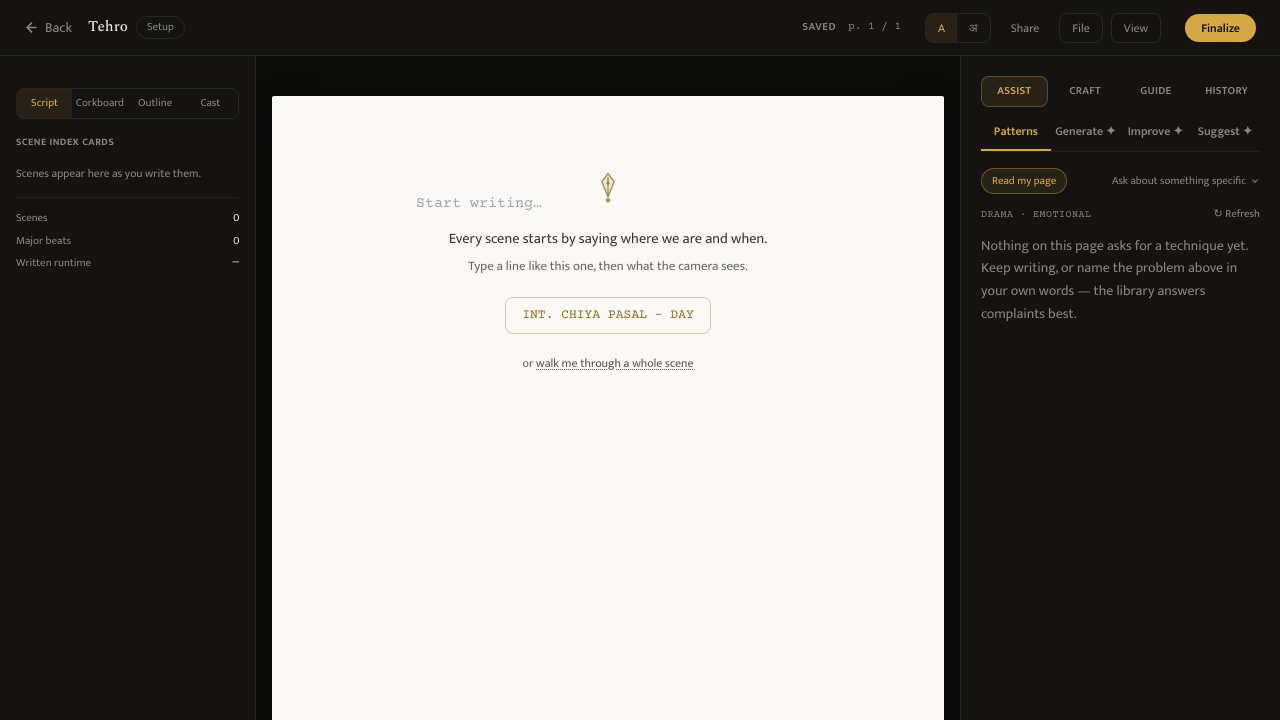
Scenario: ScriptEditor › on the free plan › offers the plan instead of a dead Execute button
The width and height of the screenshot is (1280, 720).
Click the button "generate ✦" at (1086, 136), box [1051,122,1121,150]
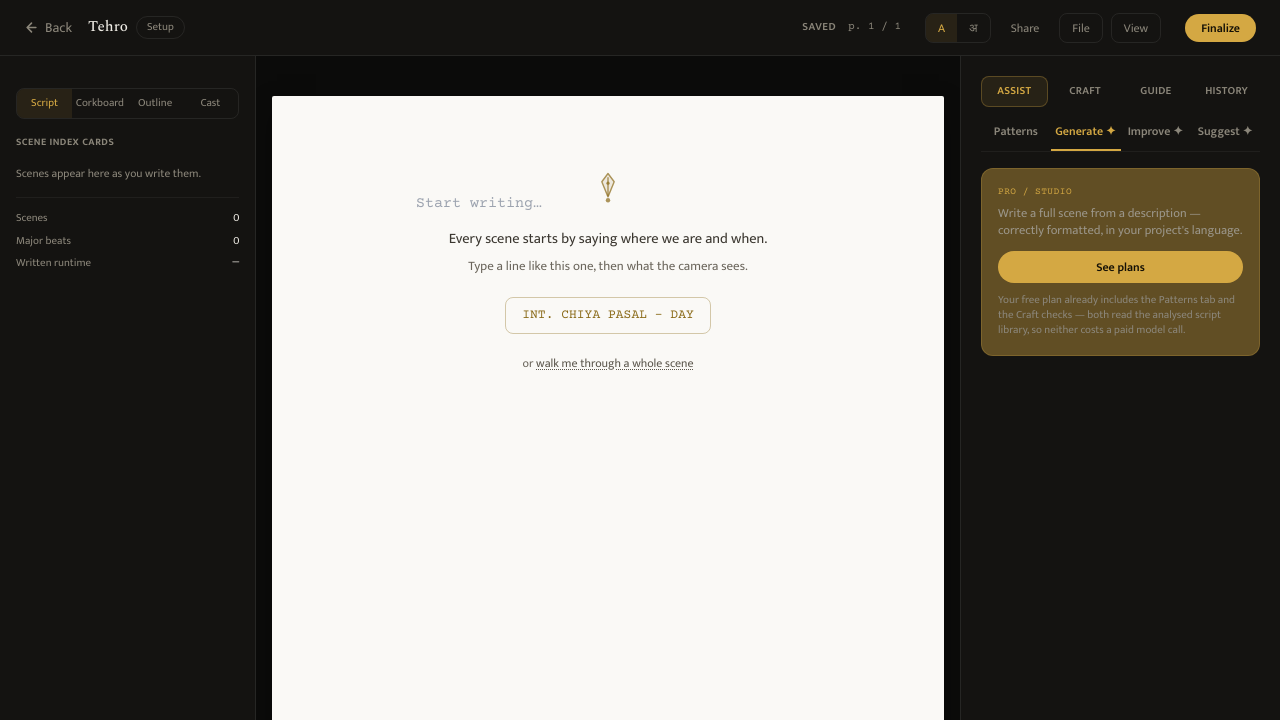
Check: the button "See plans" is shown, box [998,251,1243,283]
